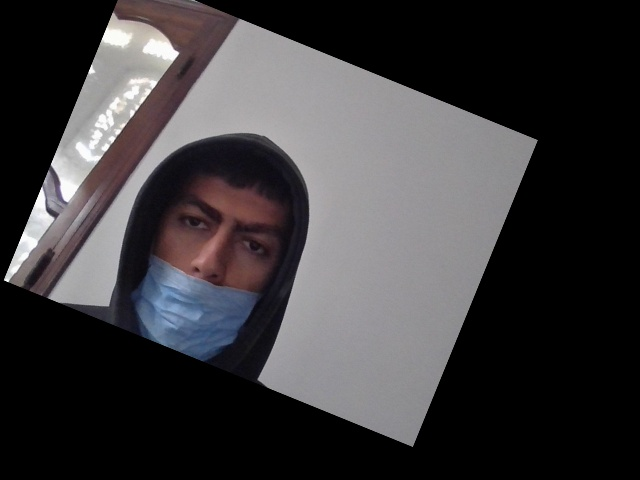mask_weared_incorrect: (137, 164, 296, 371)
